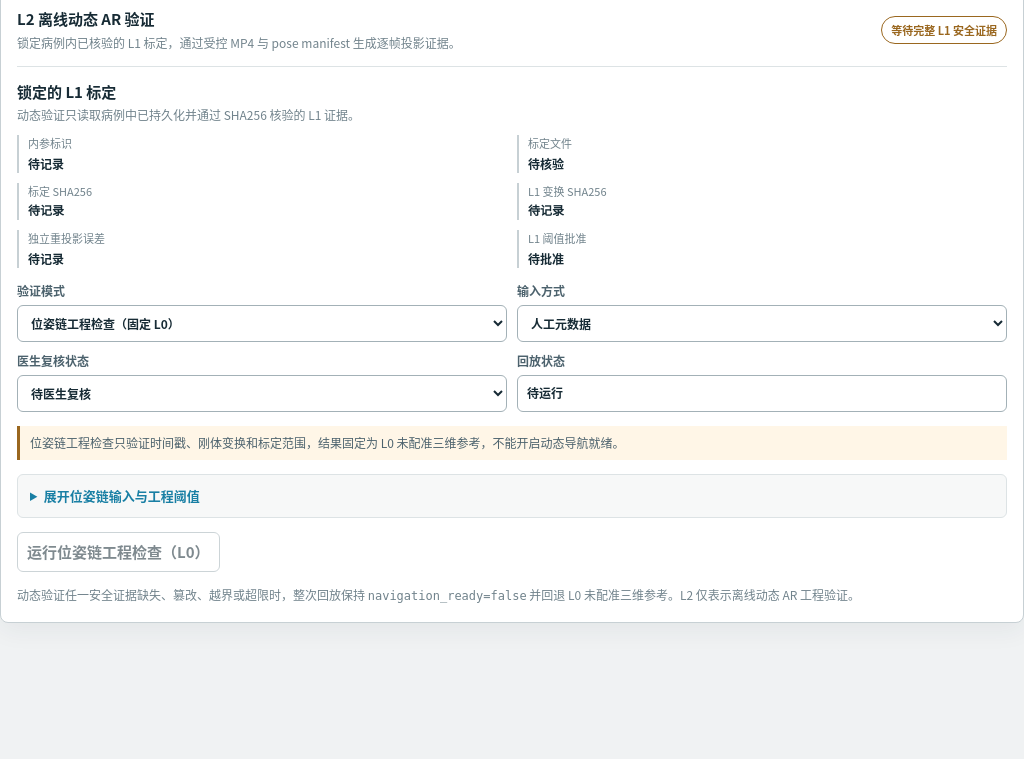
Test case: L2PoseReplayPanel › blocks dynamic validation when the case has no admitted MP4 or complete L1 calibration
Step 1. Select "动态 AR 验证（严格安全门）" in the dropdown with test id "replay-mode" → (262, 323), box [17,304,507,342]
(page scrolled)
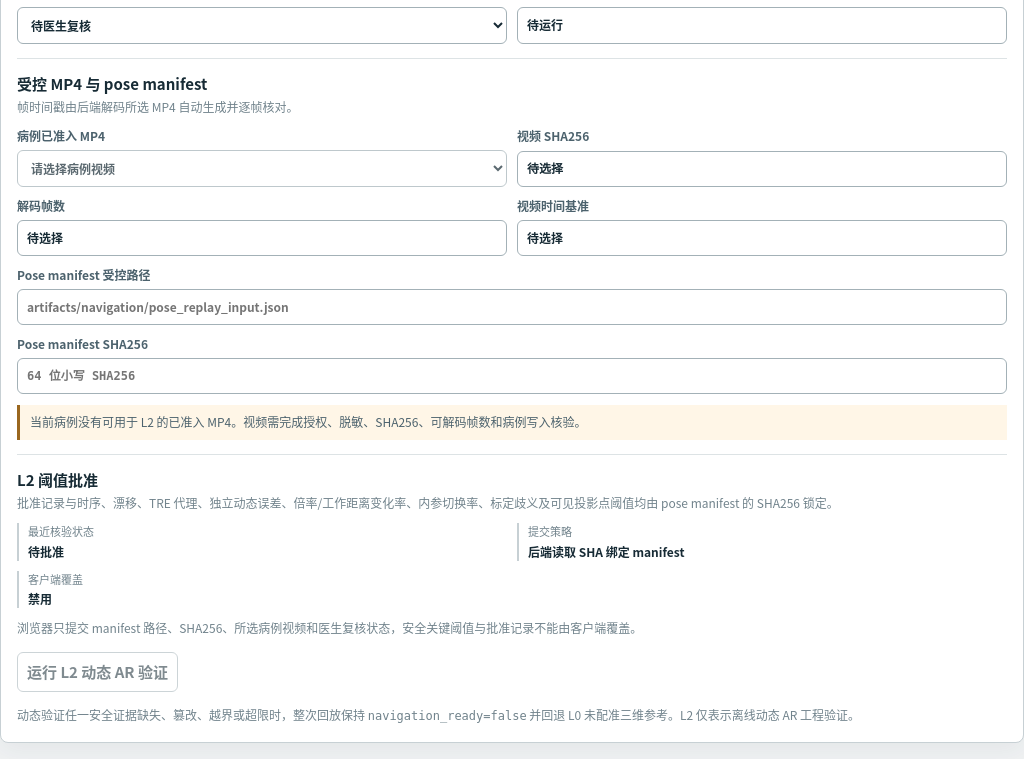
expect the button with test id "run-replay" is disabled: met, box [17,652,178,692]
expect the text "当前病例没有可用于 L2 的已准入 MP4" is shown: met, box [30,413,586,430]
